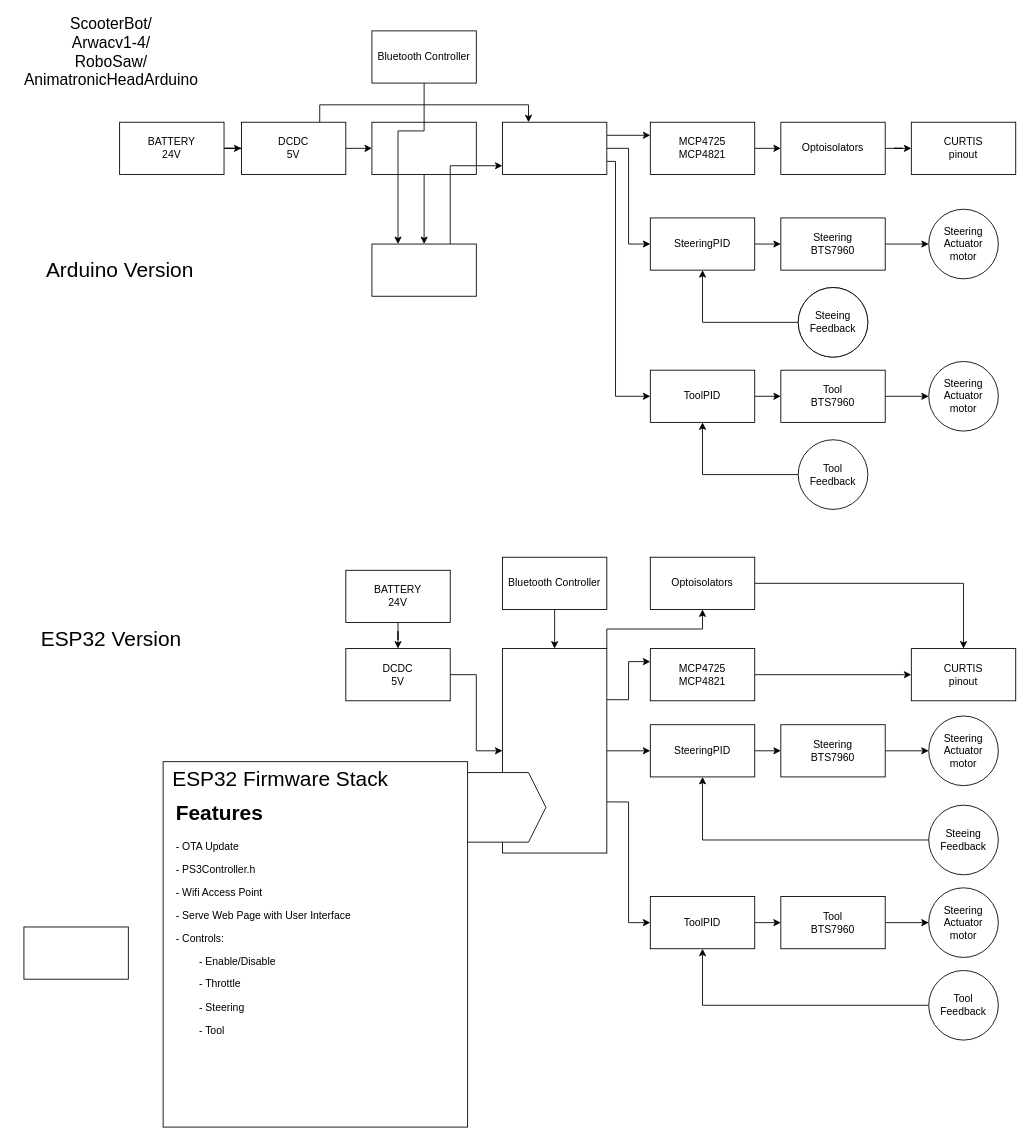
This 1031x1142 diagram has some shape labels left out. Here are the shapes that lost their labels. From the top down, the centre of each, then its label:
point 423,147: Raspberry Pi
point 554,147: Arduino Nano
point 423,269: Python Script
point 554,750: ESP32
